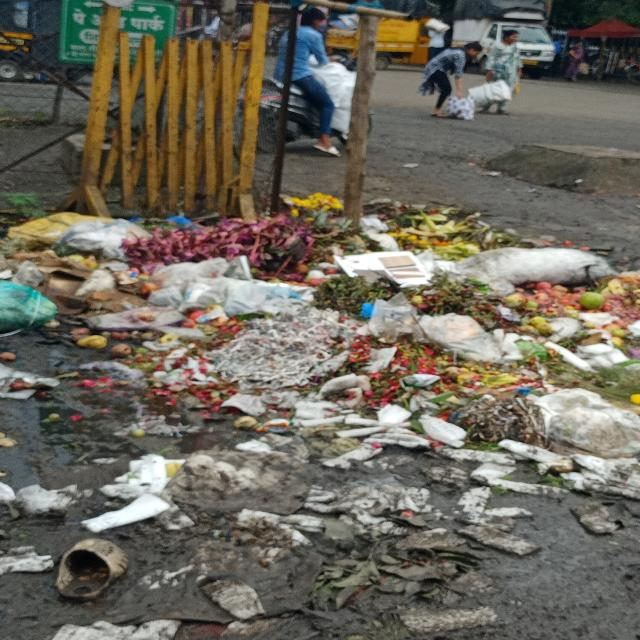garbage: (0, 204, 640, 637)
